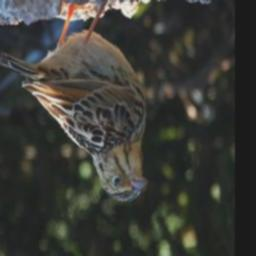Sparrow: (0, 0, 156, 211)
